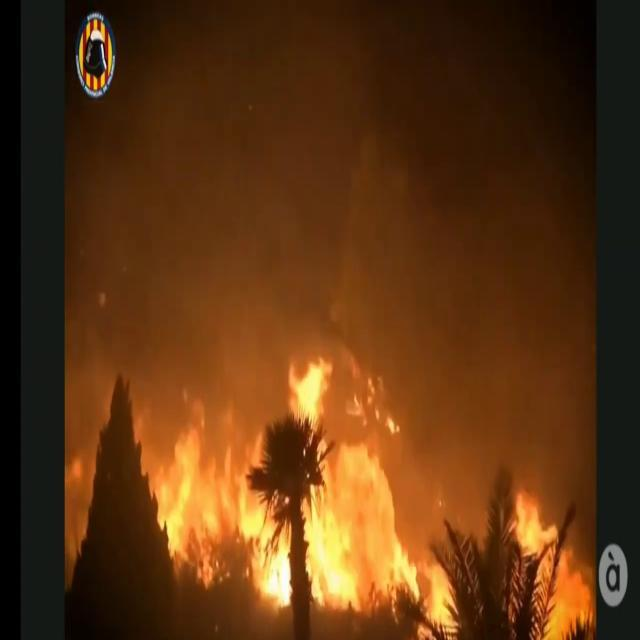Fire: (146, 343, 460, 630), (505, 472, 597, 634)
Smoke: (69, 1, 596, 388)
